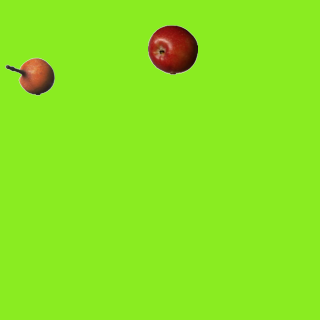Apple Braeburn: (147, 24, 197, 74)
Granadilla: (4, 51, 54, 101)
